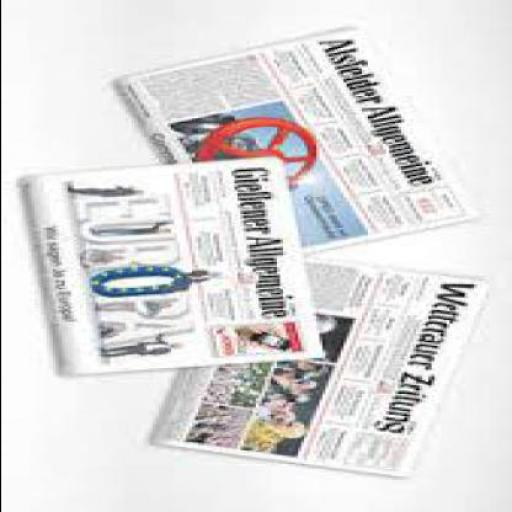paper: (109, 26, 476, 253), (149, 261, 493, 477), (12, 154, 328, 374)
